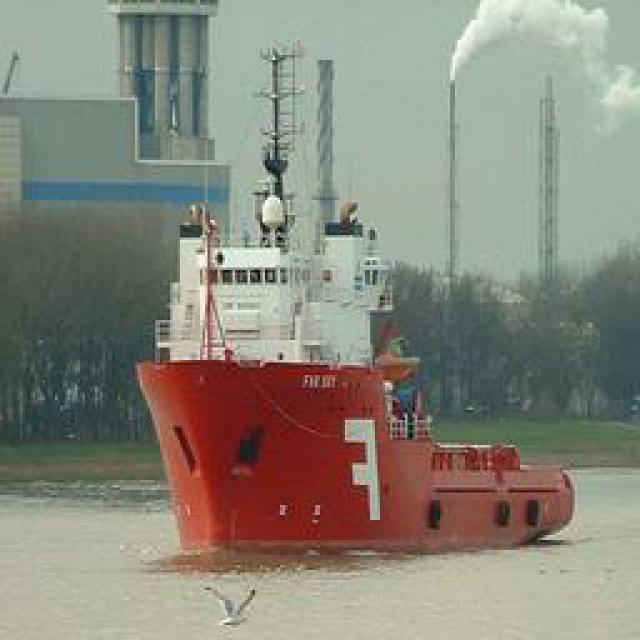Ship: (136, 186, 585, 561)
